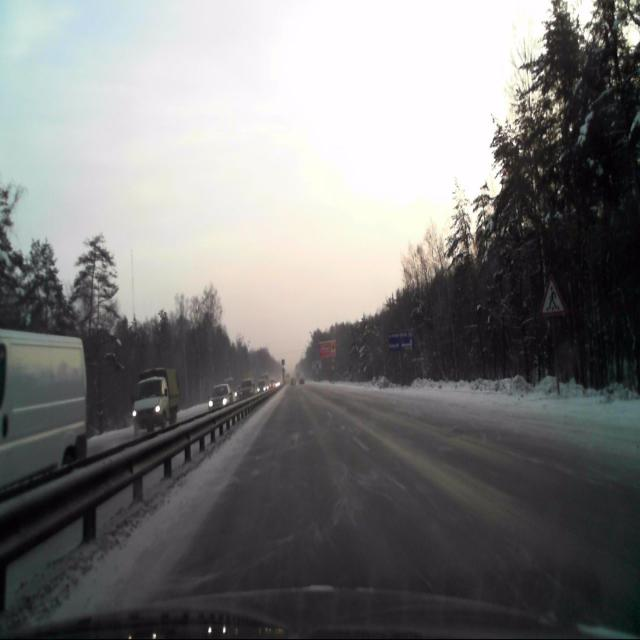road sign: (539, 275, 566, 316)
